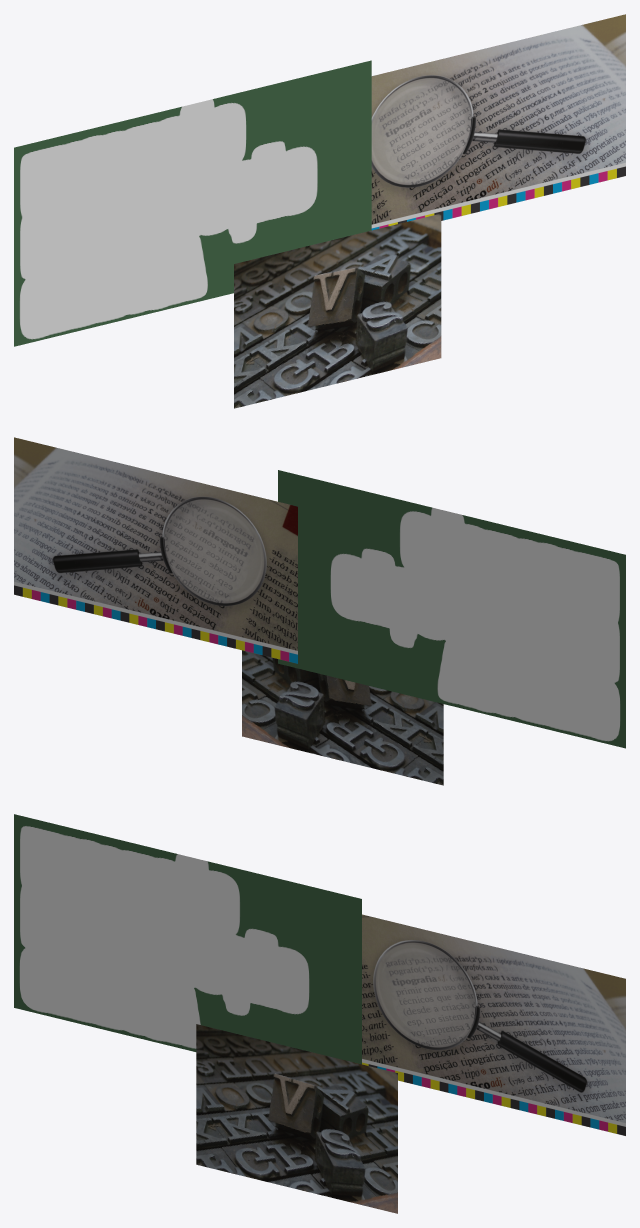
File: FIRJAN_XR_Collection_3.glb
3 renders of one model, top to bottom at view 1: azimuth 30°, elevation 25°; view 2: azimuth 150°, elevation 25°; view 3: azimuth 330°, elevation 25°, orthographic. The views are drawn at different scales.
Visible parts, largest first — view 1: 03_evolucao_da_producao_grafica, BOARD_04_escritores_dicionario_industria, BOARD_03_tipografia_curso; view 2: 03_evolucao_da_producao_grafica, BOARD_04_escritores_dicionario_industria, BOARD_03_tipografia_curso; view 3: 03_evolucao_da_producao_grafica, BOARD_04_escritores_dicionario_industria, BOARD_03_tipografia_curso.
Boxes of the visible parts, x1,y1,x2,y2 form: 03_evolucao_da_producao_grafica: (14,60,371,346); BOARD_04_escritores_dicionario_industria: (371,14,625,230); BOARD_03_tipografia_curso: (234,213,441,408); 03_evolucao_da_producao_grafica: (278,470,625,748); BOARD_04_escritores_dicionario_industria: (14,437,297,663); BOARD_03_tipografia_curso: (242,650,443,785); 03_evolucao_da_producao_grafica: (14,814,361,1064); BOARD_04_escritores_dicionario_industria: (362,914,625,1135); BOARD_03_tipografia_curso: (196,1024,397,1213).
Size of the model in its own units: 9.49 by 4.37 by 0.6584.
3 materials, 3 textured.
